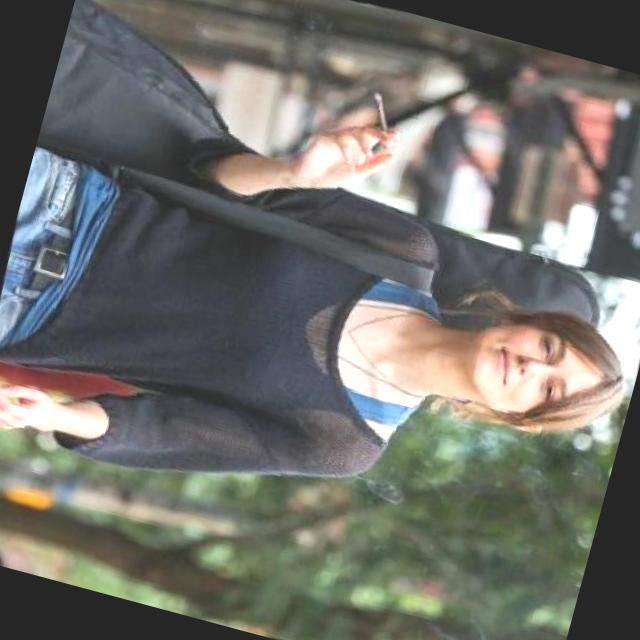cigarette: (355, 86, 402, 152)
